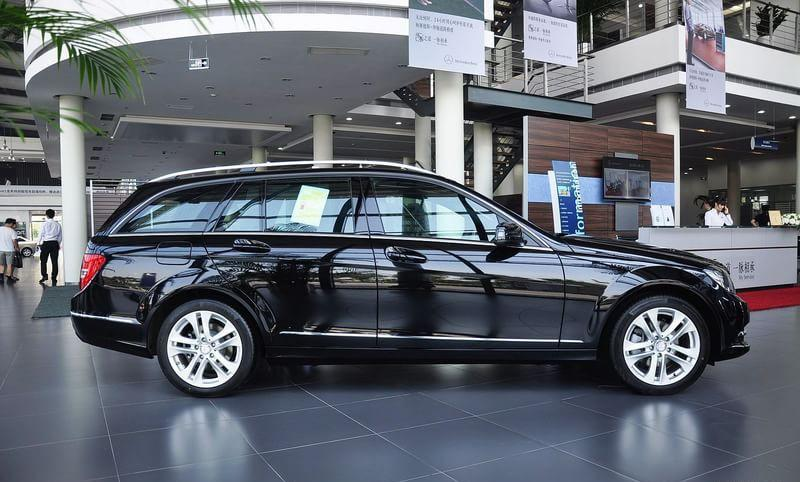Wagon: (69, 158, 752, 399)
